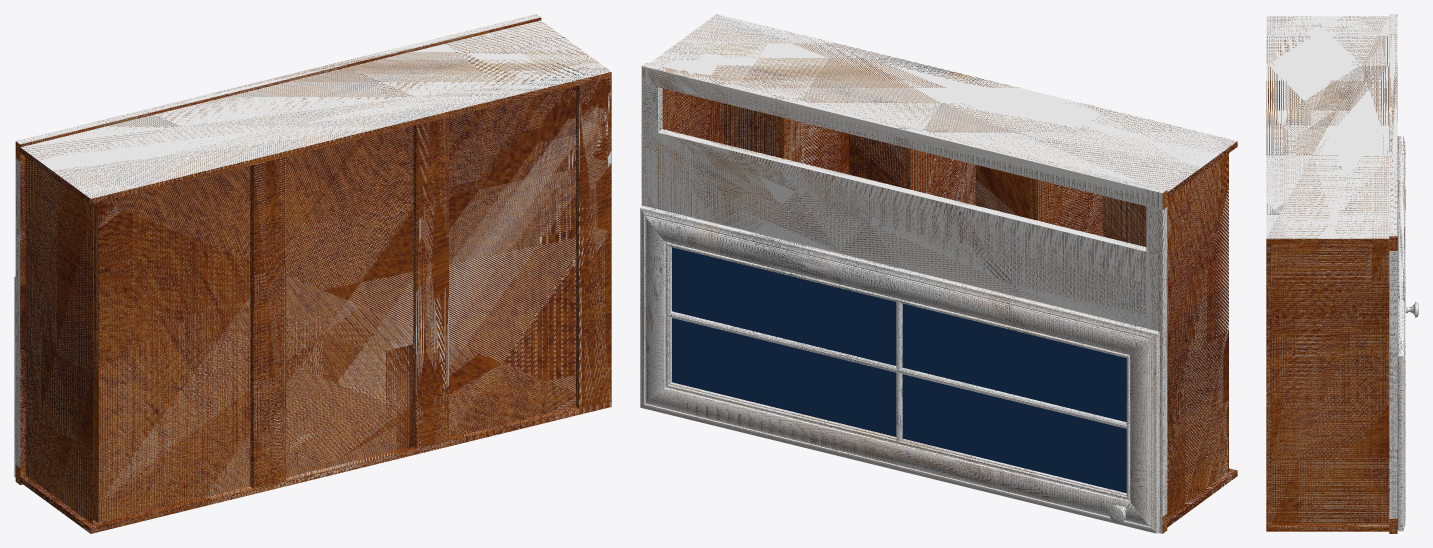
3 renders of one model, left to right at view 1: azimuth 30°, elevation 25°; view 2: azimuth 150°, elevation 25°; view 3: azimuth 270°, elevation 25°, orthographic. The views are drawn at different scales.
Parts seen in each view (by area): view 1: mesh6_mesh6-geometry, mesh8_mesh8-geometry, mesh3_mesh3-geometry, mesh1_mesh1-geometry, mesh7_mesh7-geometry, mesh9_mesh9-geometry, mesh4_mesh4-geometry, mesh26_mesh26-geometry, mesh2_mesh2-geometry; view 2: mesh23_mesh23-geometry, mesh11_mesh11-geometry, mesh8_mesh8-geometry, mesh1_mesh1-geometry, mesh20_mesh20-geometry, mesh19_mesh19-geometry, mesh9_mesh9-geometry, mesh12_mesh12-geometry, mesh5_mesh5-geometry, mesh4_mesh4-geometry, mesh18_mesh18-geometry, mesh17_mesh17-geometry (+7 smaller); view 3: mesh2_mesh2-geometry, mesh8_mesh8-geometry, mesh4_mesh4-geometry, mesh9_mesh9-geometry, mesh3_mesh3-geometry, mesh20_mesh20-geometry, mesh7_mesh7-geometry, mesh17_mesh17-geometry, mesh14_mesh14-geometry, mesh13_mesh13-geometry.
Boxes of the visible parts, left/top/right/bottom form: mesh6_mesh6-geometry: left=98, top=86, right=575, bottom=522; mesh8_mesh8-geometry: left=20, top=20, right=611, bottom=204; mesh3_mesh3-geometry: left=250, top=77, right=611, bottom=488; mesh1_mesh1-geometry: left=25, top=157, right=92, bottom=524; mesh7_mesh7-geometry: left=20, top=401, right=611, bottom=533; mesh9_mesh9-geometry: left=15, top=14, right=541, bottom=161; mesh4_mesh4-geometry: left=15, top=158, right=25, bottom=467; mesh26_mesh26-geometry: left=386, top=344, right=413, bottom=451; mesh2_mesh2-geometry: left=93, top=203, right=98, bottom=522; mesh23_mesh23-geometry: left=672, top=247, right=1126, bottom=492; mesh11_mesh11-geometry: left=658, top=129, right=1146, bottom=327; mesh8_mesh8-geometry: left=649, top=14, right=1237, bottom=197; mesh1_mesh1-geometry: left=662, top=88, right=1228, bottom=516; mesh20_mesh20-geometry: left=686, top=217, right=1111, bottom=353; mesh19_mesh19-geometry: left=686, top=386, right=1109, bottom=521; mesh9_mesh9-geometry: left=641, top=63, right=1167, bottom=210; mesh12_mesh12-geometry: left=776, top=116, right=1102, bottom=236; mesh5_mesh5-geometry: left=722, top=103, right=1146, bottom=246; mesh4_mesh4-geometry: left=641, top=83, right=1167, bottom=516; mesh18_mesh18-geometry: left=1126, top=369, right=1159, bottom=490; mesh17_mesh17-geometry: left=640, top=251, right=671, bottom=372; mesh2_mesh2-geometry: left=1271, top=243, right=1389, bottom=524; mesh8_mesh8-geometry: left=1266, top=16, right=1389, bottom=243; mesh4_mesh4-geometry: left=1389, top=251, right=1397, bottom=518; mesh9_mesh9-geometry: left=1389, top=14, right=1397, bottom=250; mesh3_mesh3-geometry: left=1266, top=243, right=1271, bottom=526; mesh20_mesh20-geometry: left=1397, top=156, right=1405, bottom=342; mesh7_mesh7-geometry: left=1266, top=524, right=1389, bottom=531; mesh17_mesh17-geometry: left=1397, top=391, right=1405, bottom=493; mesh14_mesh14-geometry: left=1397, top=336, right=1405, bottom=393; mesh13_mesh13-geometry: left=1397, top=491, right=1405, bottom=531.
Bounding box in the file's own units: 0.8234 × 0.5146 × 0.2391.
